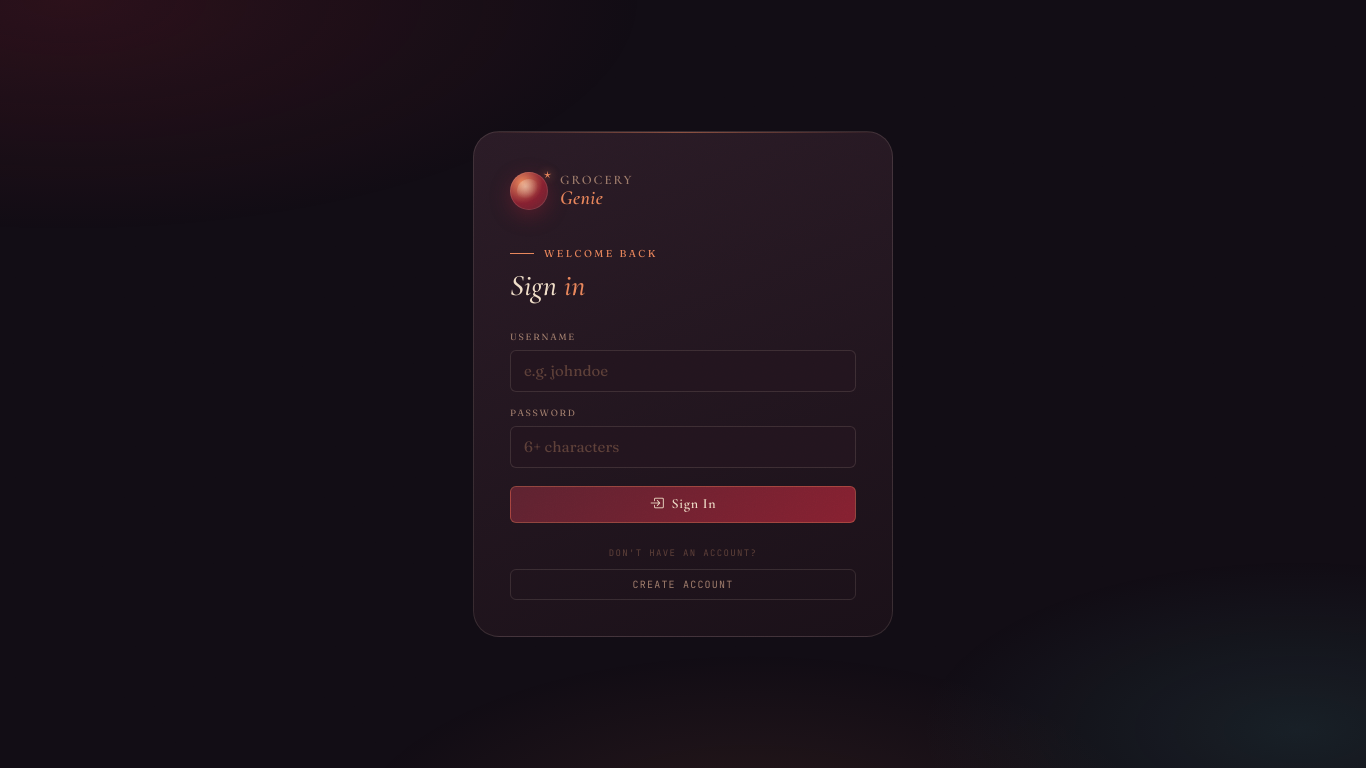
Scenario: basic rendering › switches to register mode when Create Account is clicked
The width and height of the screenshot is (1366, 768).
Click the button "Create Account" at {"x": 683, "y": 584}, box [510, 569, 856, 600]
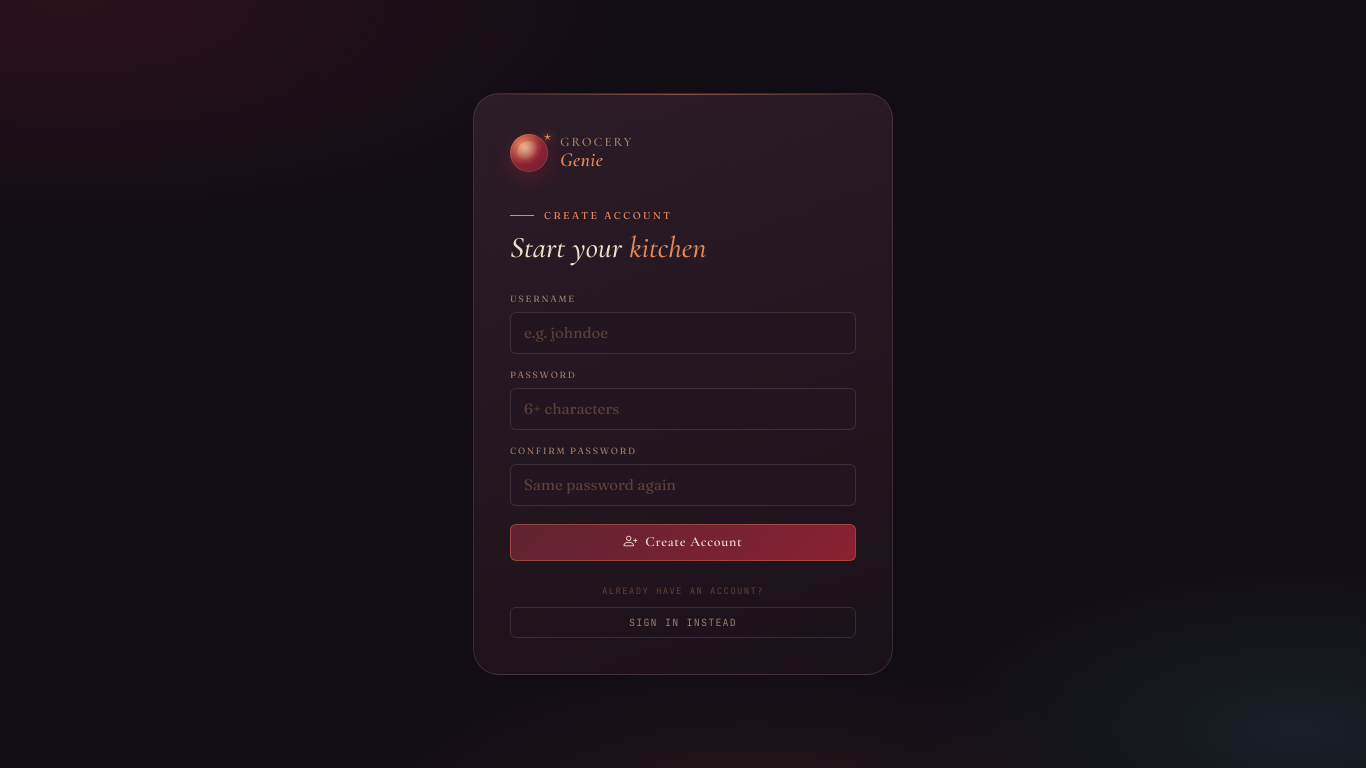
Check: the password field labelled "Confirm Password" is shown, box [510, 464, 856, 506]
